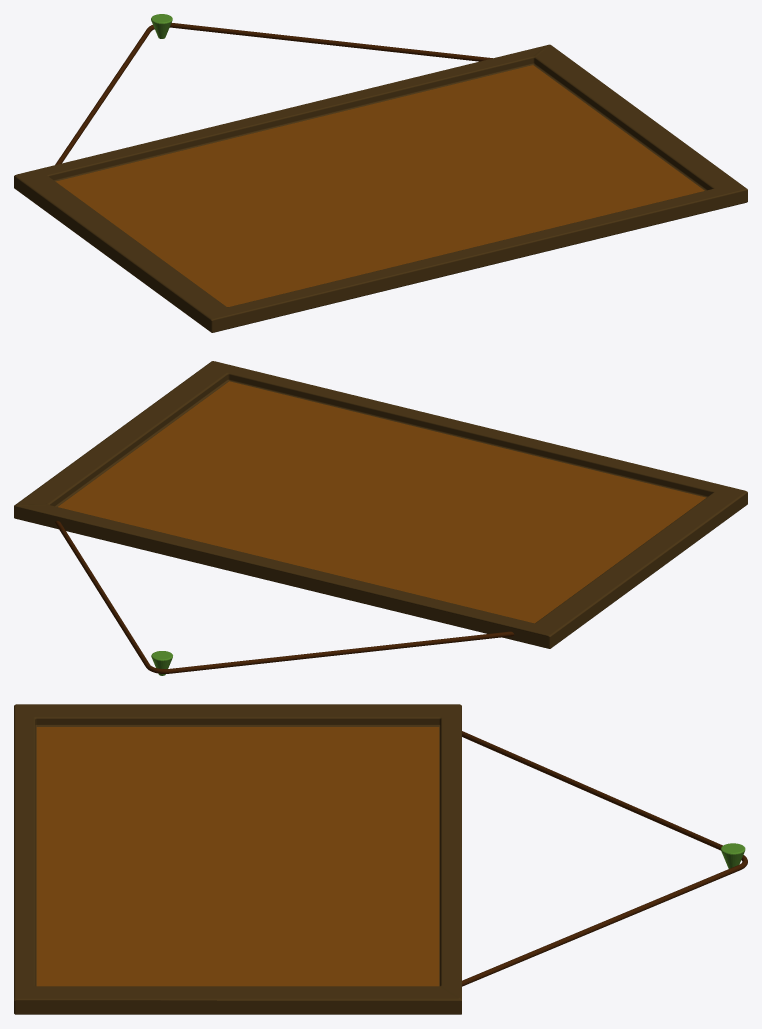
The model's file is Board.fbx.
The picture shows the model from 3 angles, top to bottom: view 1: azimuth 30°, elevation 25°; view 2: azimuth 150°, elevation 25°; view 3: azimuth 270°, elevation 25°; orthographic projection. The views are drawn at different scales.
Parts seen in each view (by area): view 1: Cube, Cylinder; view 2: Cube, Cylinder; view 3: Cube, Cylinder.
Boxes of the visible parts, x1,y1,x2,y2 form: Cube: (14,44,747,332); Cylinder: (55,23,492,164); Cube: (14,361,747,648); Cylinder: (55,521,514,673); Cube: (14,704,461,1014); Cylinder: (462,731,747,986).
Bounding box in the file's own units: 44.5 × 1.53 × 46.62.
